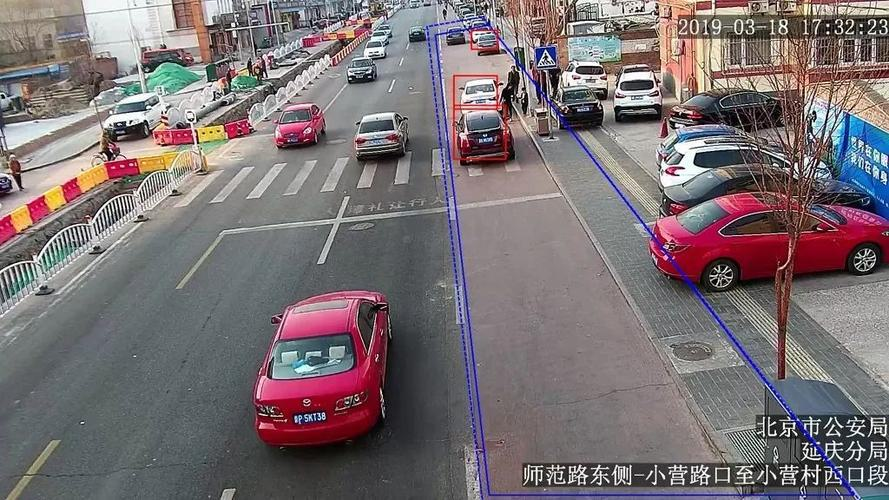bicycle: (87, 134, 145, 164)
car: (646, 188, 889, 288), (257, 287, 386, 442), (654, 141, 831, 191), (654, 173, 866, 209), (664, 84, 803, 131), (101, 92, 199, 146), (657, 126, 793, 156), (454, 112, 525, 165), (271, 98, 323, 154), (547, 86, 599, 132), (613, 69, 661, 118), (346, 109, 391, 159), (456, 80, 504, 119), (566, 58, 605, 97), (346, 56, 379, 92), (364, 35, 387, 70), (364, 24, 395, 49), (405, 26, 432, 45), (478, 37, 498, 55), (447, 26, 464, 41)
person: (4, 153, 34, 195), (217, 66, 242, 90), (239, 57, 265, 79)
